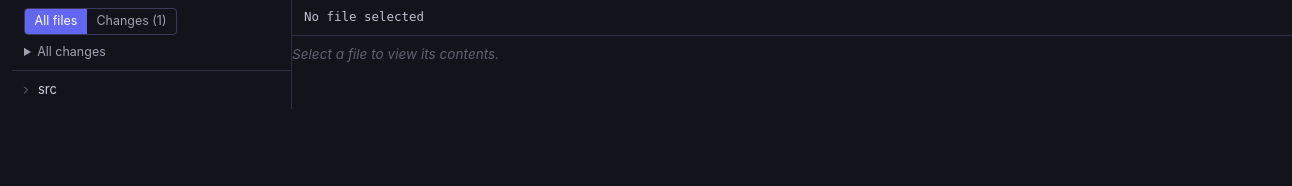
FilesPanel › shows the file tree and filters to changes in PR mode
Folders start collapsed — open src to reveal its files.
Click the button "src".
click(26, 90)  # box [12,75,291,105]
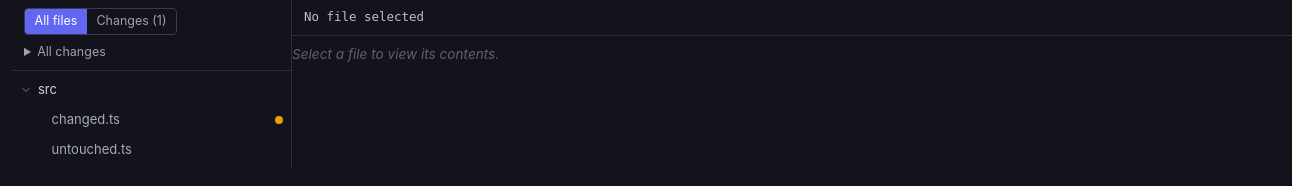
Now the text "changed.ts" is shown, box [52,110,120,130]
Now the text "untouched.ts" is shown, box [52,140,132,160]
Switching to "Changes" hides files with no diff from the base branch.
Click the button "Changes (1)".
click(131, 22)  # box [87,9,176,34]
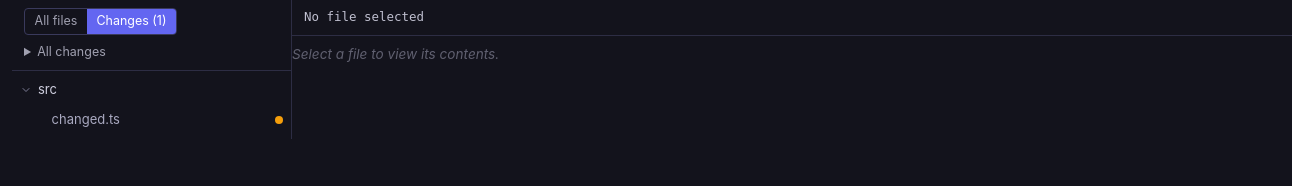
Now the text "changed.ts" is shown, box [52,110,120,130]
Now the button "untouched.ts" is gone
